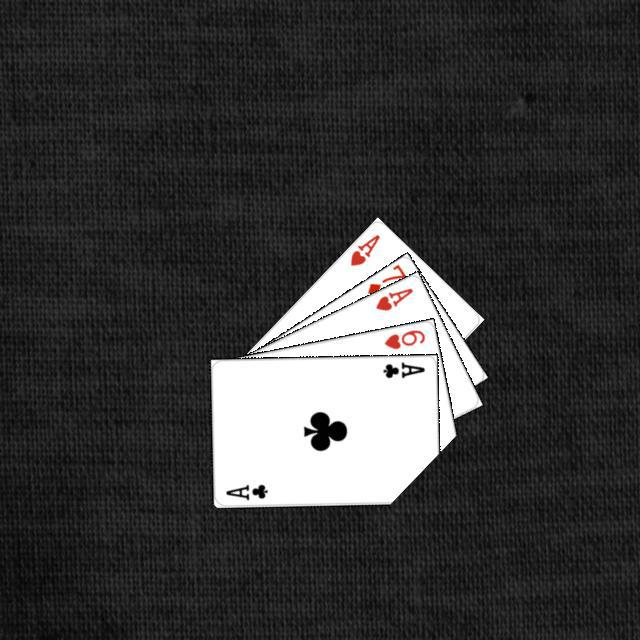6h: (379, 325, 427, 351)
7d: (362, 260, 408, 297)
Ac: (378, 357, 426, 380), (221, 479, 269, 502)
Ah: (345, 229, 382, 268), (370, 283, 414, 313)
